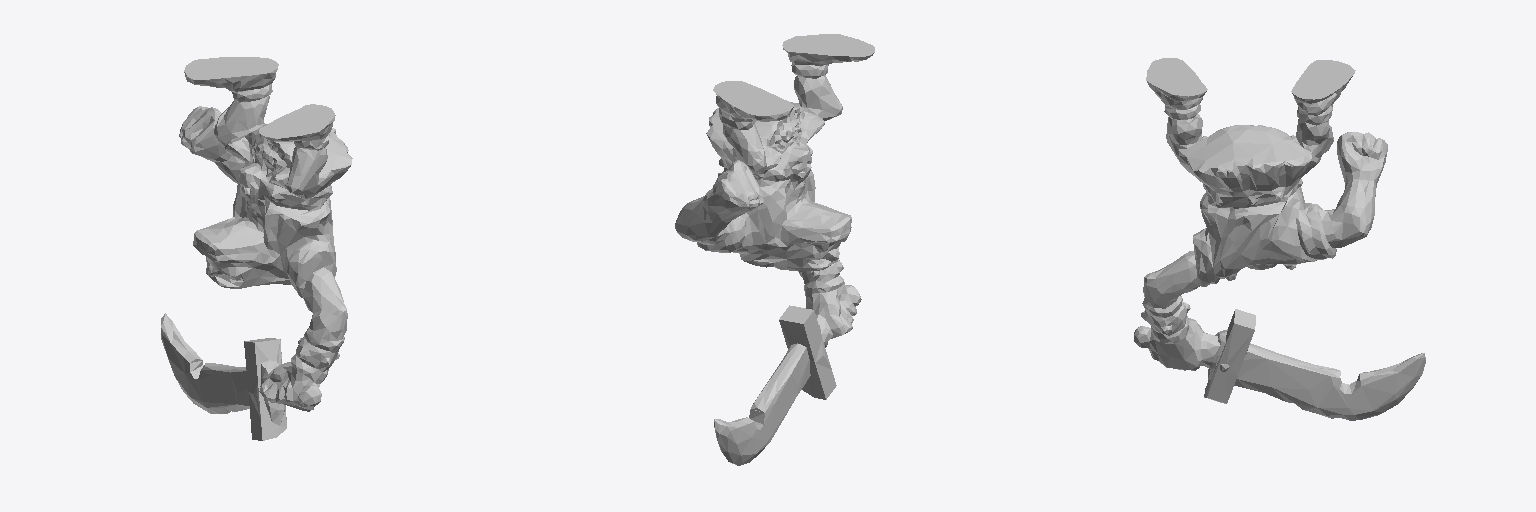
The model's file is orc.obj.
The picture shows the model from 3 angles: view 1: azimuth 30°, elevation 25°; view 2: azimuth 150°, elevation 25°; view 3: azimuth 270°, elevation 25°; orthographic projection.
Size of the model in its own units: 2.35 by 5.88 by 4.49.